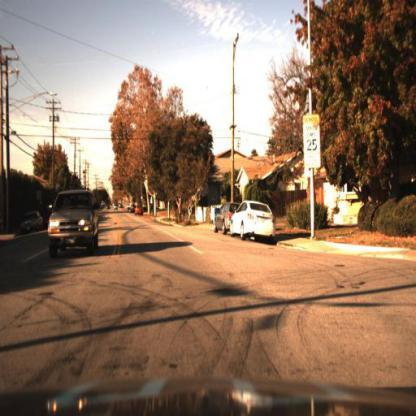car: (42, 179, 101, 254), (230, 201, 278, 243), (210, 201, 232, 240), (108, 200, 121, 213), (135, 205, 147, 219), (128, 205, 136, 217)
